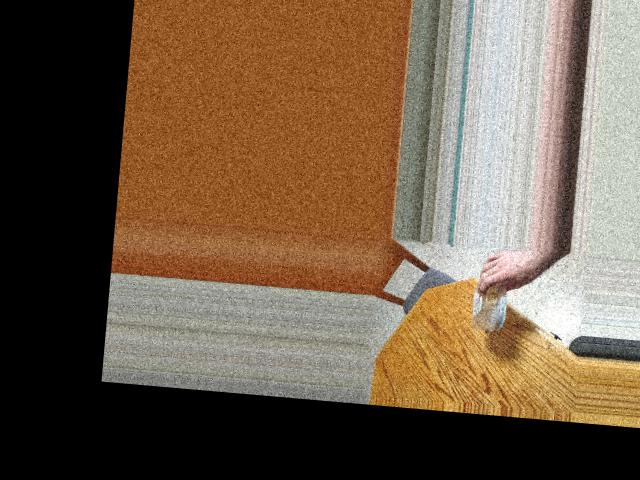cheese: (460, 260, 521, 329)
